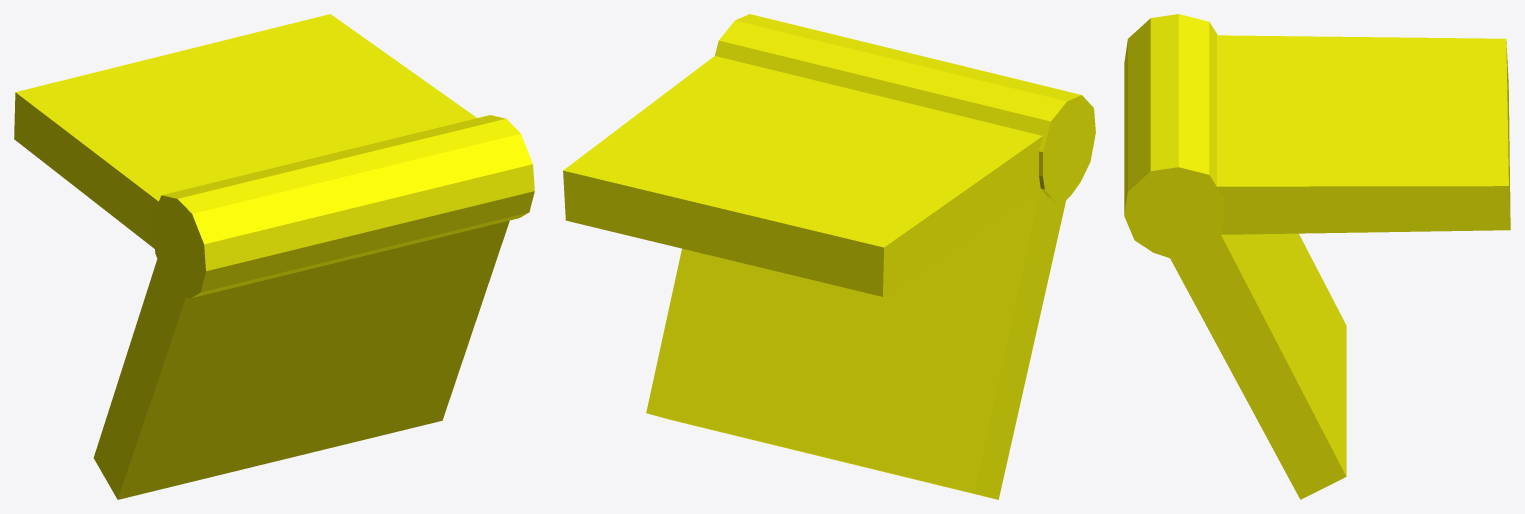
Rendered from bucketJoint.fbx.
3 renders of one model, left to right at view 1: azimuth 30°, elevation 25°; view 2: azimuth 150°, elevation 25°; view 3: azimuth 270°, elevation 25°, orthographic. The views are drawn at different scales.
Parts seen in each view (by area): view 1: bucketToArmJoint; view 2: bucketToArmJoint; view 3: bucketToArmJoint.
Part boxes in pixels (bbox=[...]): bucketToArmJoint: bbox=[14, 14, 534, 499]; bucketToArmJoint: bbox=[563, 14, 1095, 499]; bucketToArmJoint: bbox=[1124, 14, 1510, 499].
Bounding box in the file's own units: 102 × 103 × 109.
